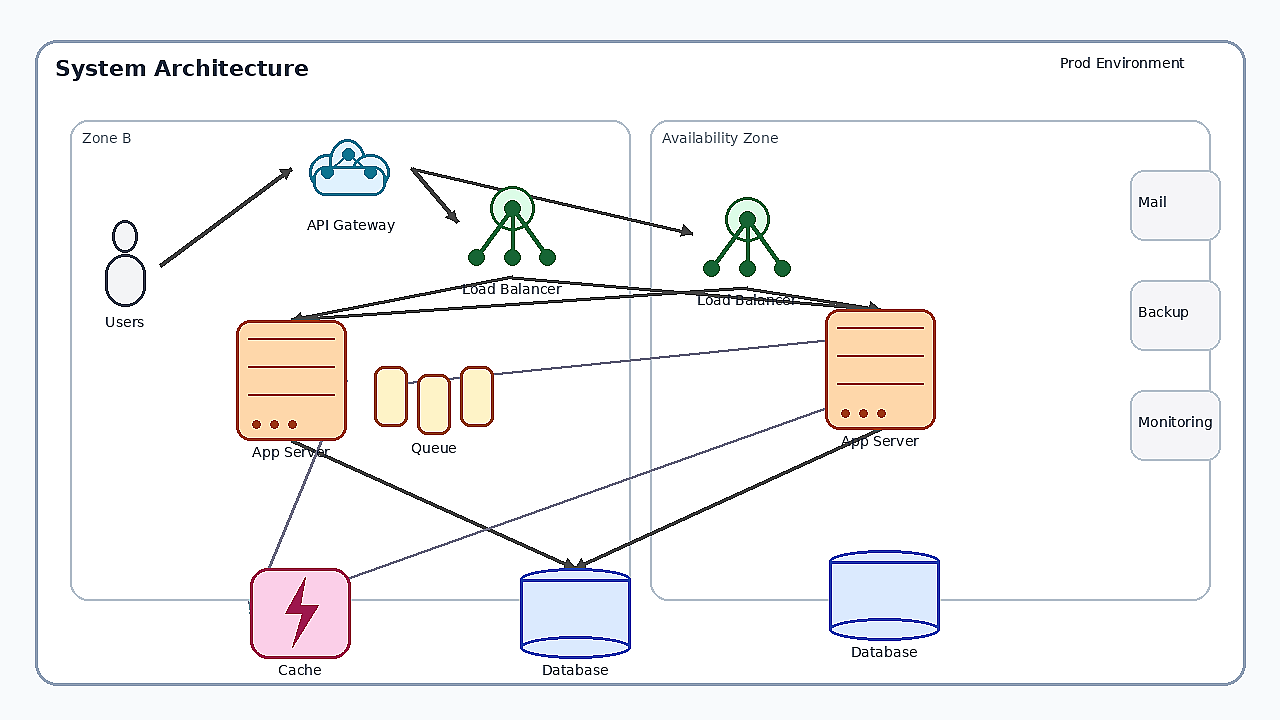API Gateway: (291, 123, 411, 213)
Application Server: (236, 320, 346, 440), (825, 309, 935, 429)
Cache: (250, 568, 350, 658)
Database: (829, 550, 939, 640), (520, 568, 630, 658)
Load Balancer: (692, 178, 802, 288), (457, 167, 567, 277)
Message Queue: (374, 366, 494, 436)
User: (90, 220, 160, 310)
